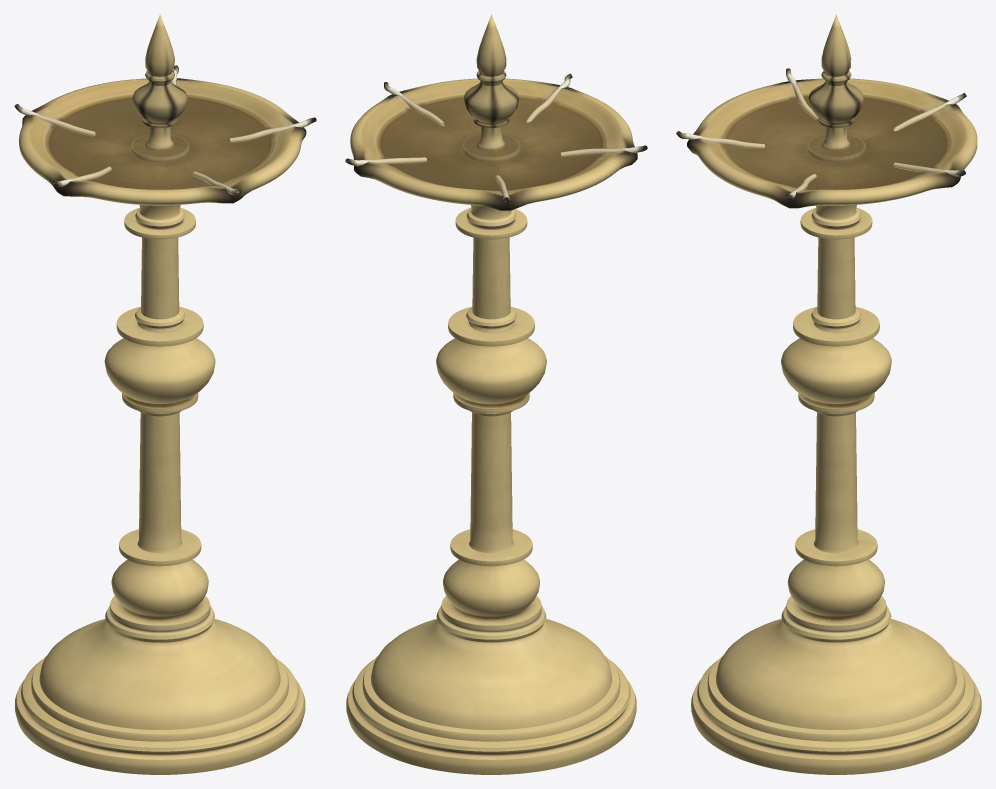
File: nilavilakku-mobile.glb
3 views of the same model, side by side, from view 1: azimuth 30°, elevation 25°; view 2: azimuth 150°, elevation 25°; view 3: azimuth 270°, elevation 25° (orthographic).
Visible parts, largest first — view 1: Nilavilakku, Oil; view 2: Nilavilakku, Oil; view 3: Nilavilakku, Oil.
Boxes of the visible parts, x1=… form: Nilavilakku: x1=15, y1=14, x2=306, y2=774; Oil: x1=46, y1=96, x2=273, y2=189; Nilavilakku: x1=346, y1=14, x2=637, y2=774; Oil: x1=378, y1=96, x2=605, y2=190; Nilavilakku: x1=687, y1=14, x2=981, y2=774; Oil: x1=720, y1=95, x2=949, y2=189.
Size of what is drawn, in the model's own units: 0.2033 by 0.518 by 0.2039.
3 materials, 1 textured.
